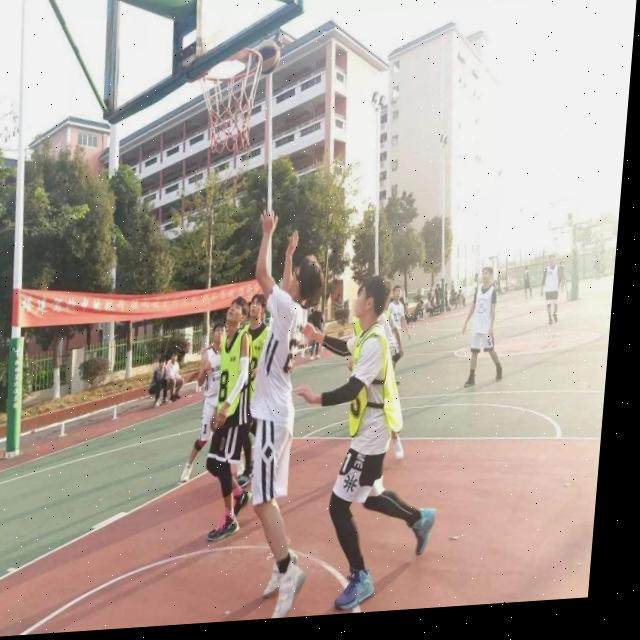basketball: (253, 39, 282, 77)
hoop: (190, 45, 264, 155)
